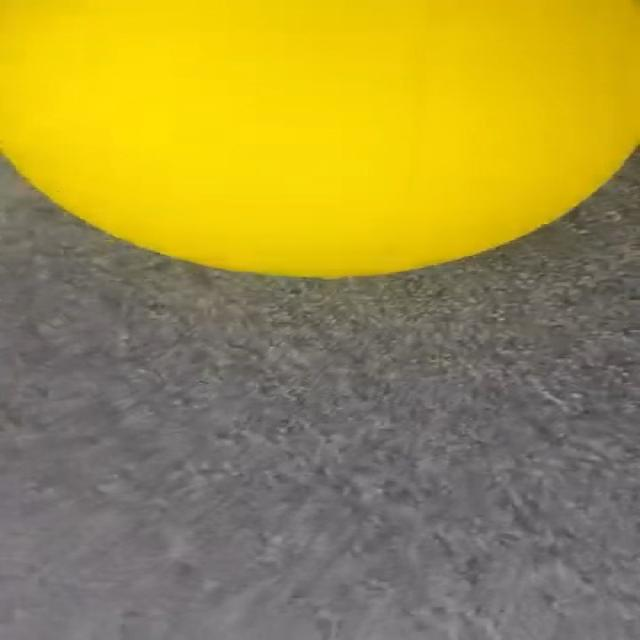Fuels: (0, 0, 638, 276)
